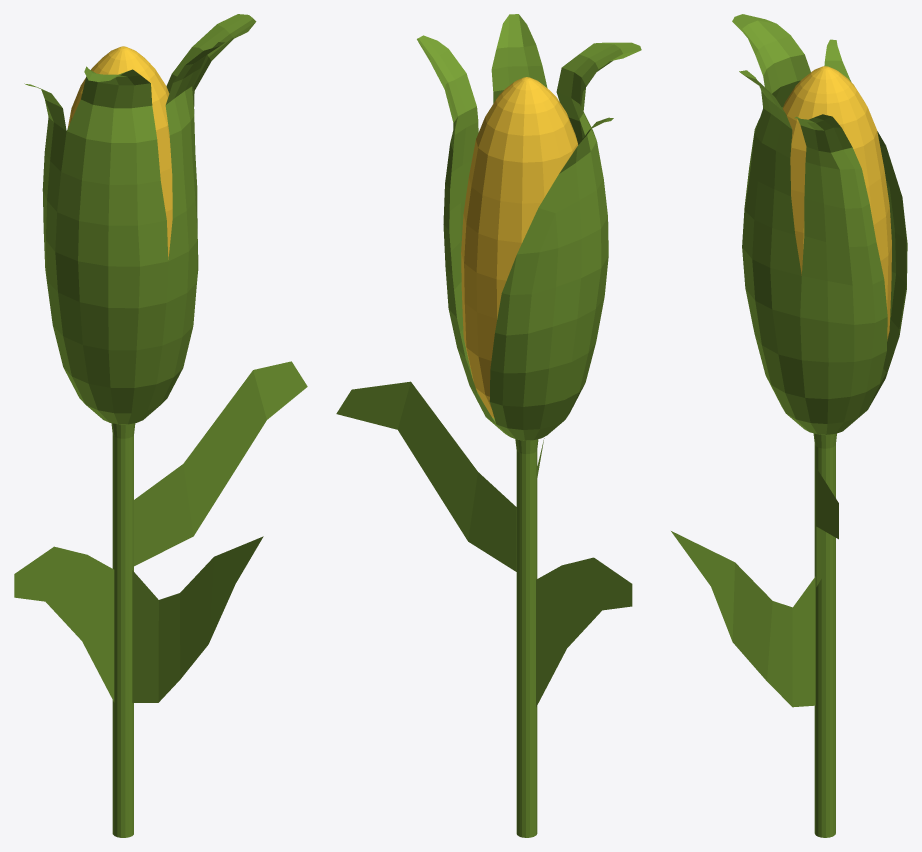
The model's file is korn_plant.fbx.
The picture shows the model from 3 angles, left to right: view 1: azimuth 30°, elevation 25°; view 2: azimuth 150°, elevation 25°; view 3: azimuth 270°, elevation 25°; orthographic projection. The views are drawn at different scales.
Parts seen in each view (by area): view 1: korn_leaf.001, korn_plant; view 2: korn_leaf.001, korn_plant; view 3: korn_leaf.001, korn_plant.
Boxes of the visible parts, x1=… form: korn_leaf.001: x1=14, y1=14, x2=307, y2=837; korn_plant: x1=67, y1=46, x2=172, y2=259; korn_leaf.001: x1=336, y1=14, x2=641, y2=837; korn_plant: x1=461, y1=77, x2=577, y2=418; korn_leaf.001: x1=671, y1=14, x2=907, y2=837; korn_plant: x1=782, y1=66, x2=891, y2=340.
Bounding box in the file's own units: 209 × 536 × 146.
